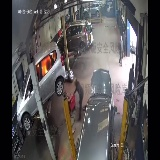fire: (40, 51, 55, 76)
